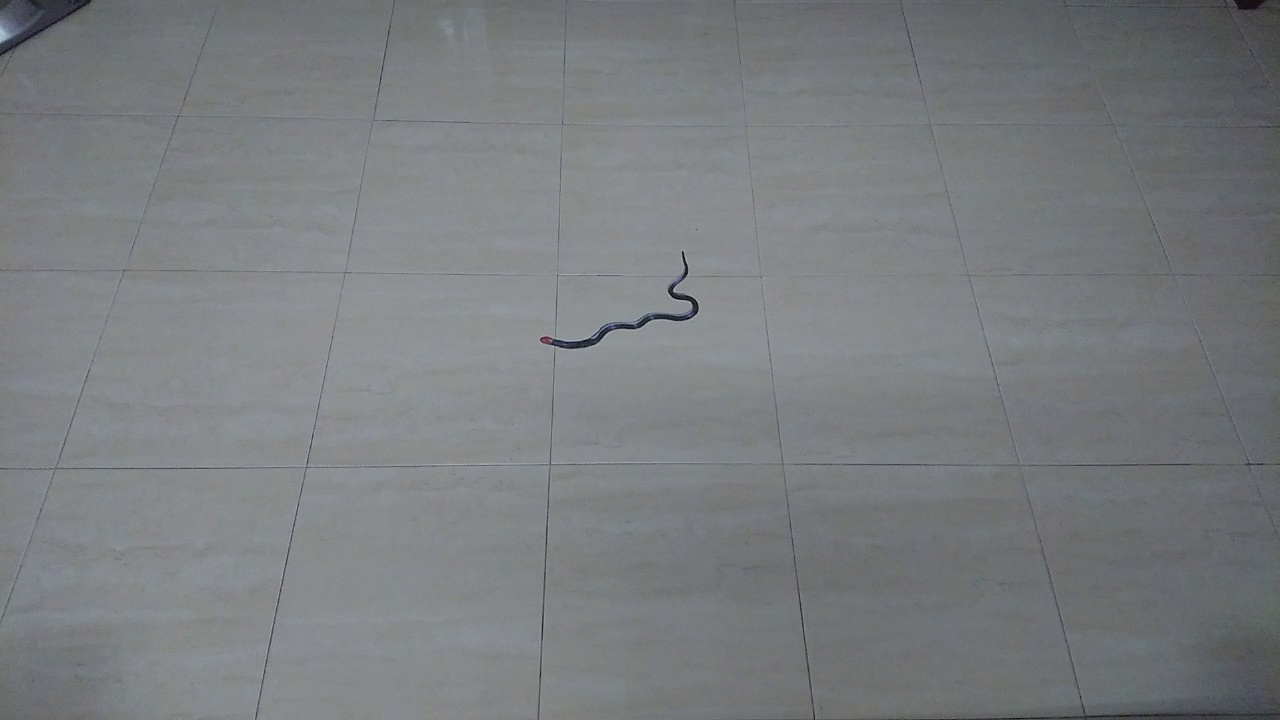snake: (529, 239, 707, 353)
